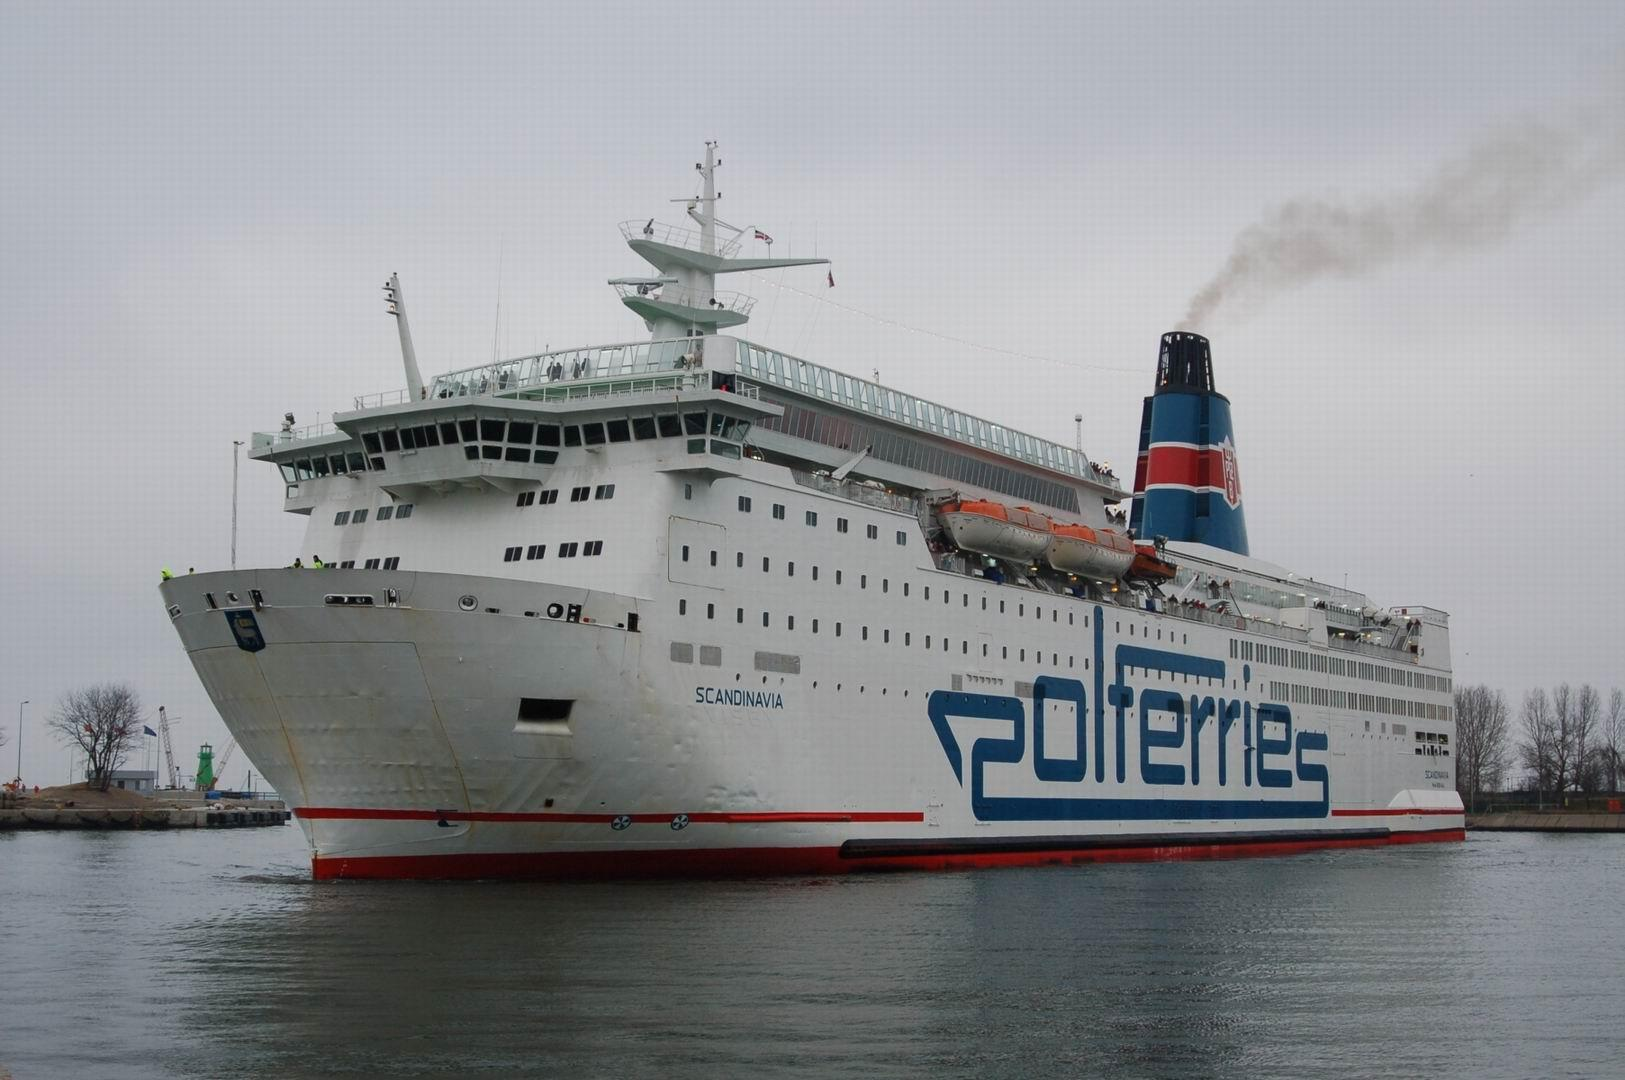youlun: (143, 149, 1521, 890)
